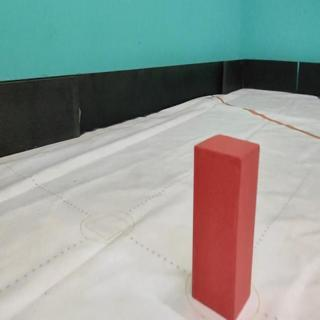redbox: (191, 133, 261, 320)
